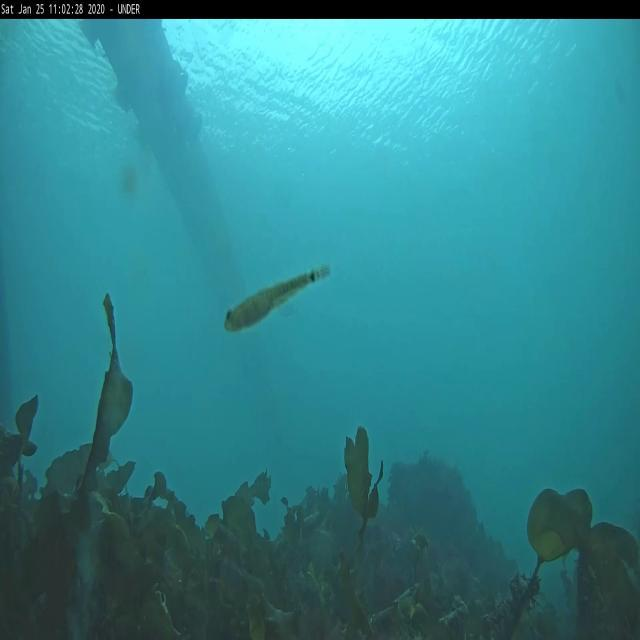fish: (224, 268, 331, 329)
